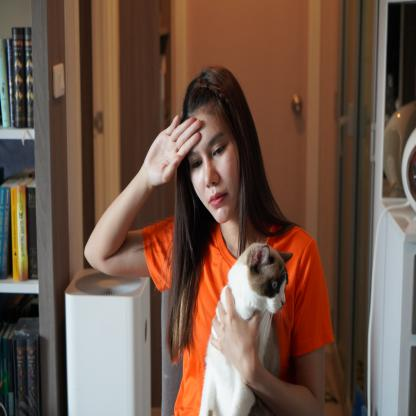Sick: (136, 113, 225, 189)
